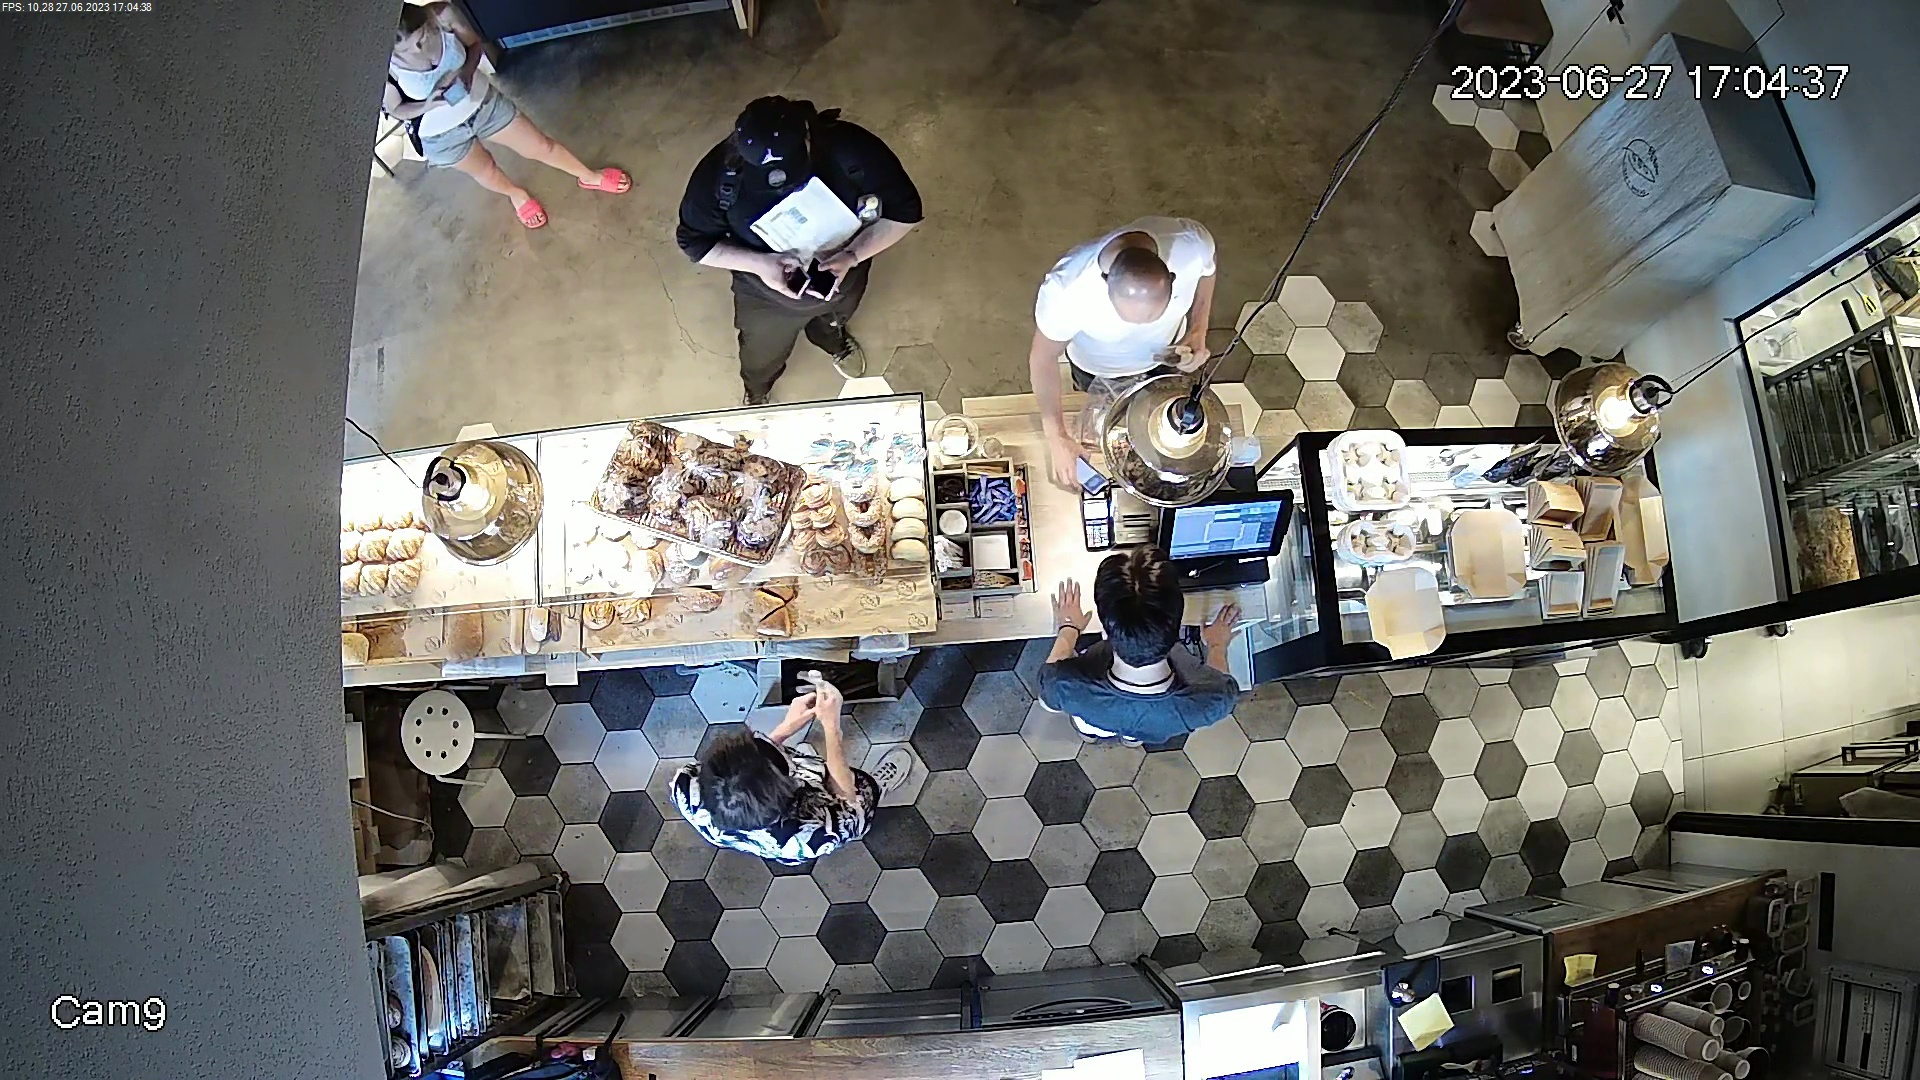person: (657, 88, 933, 408), (621, 677, 924, 875), (1030, 552, 1244, 760)
terminal: (1076, 437, 1114, 555)
